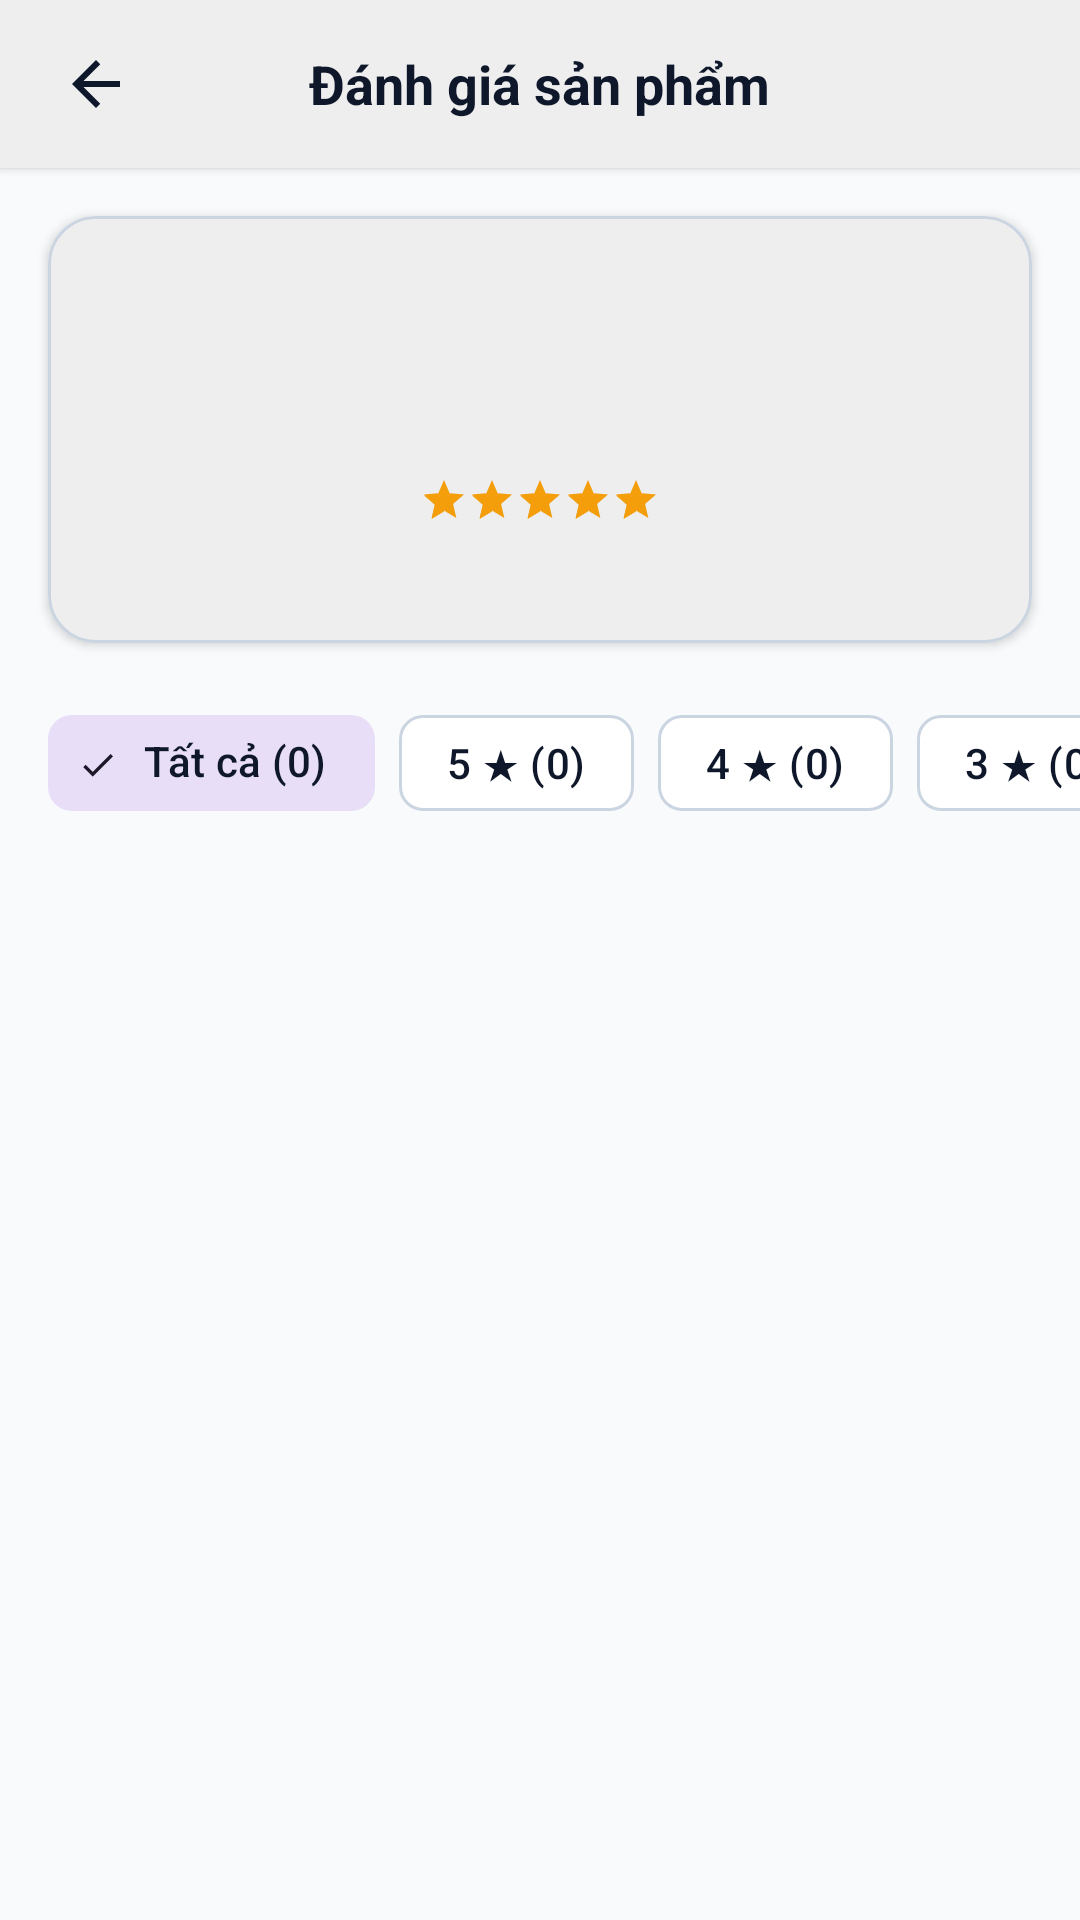

Icon click points for this 1080*1920 phone screenshot, format (x=x, y=y):
Quay lại: (x=96, y=84)
